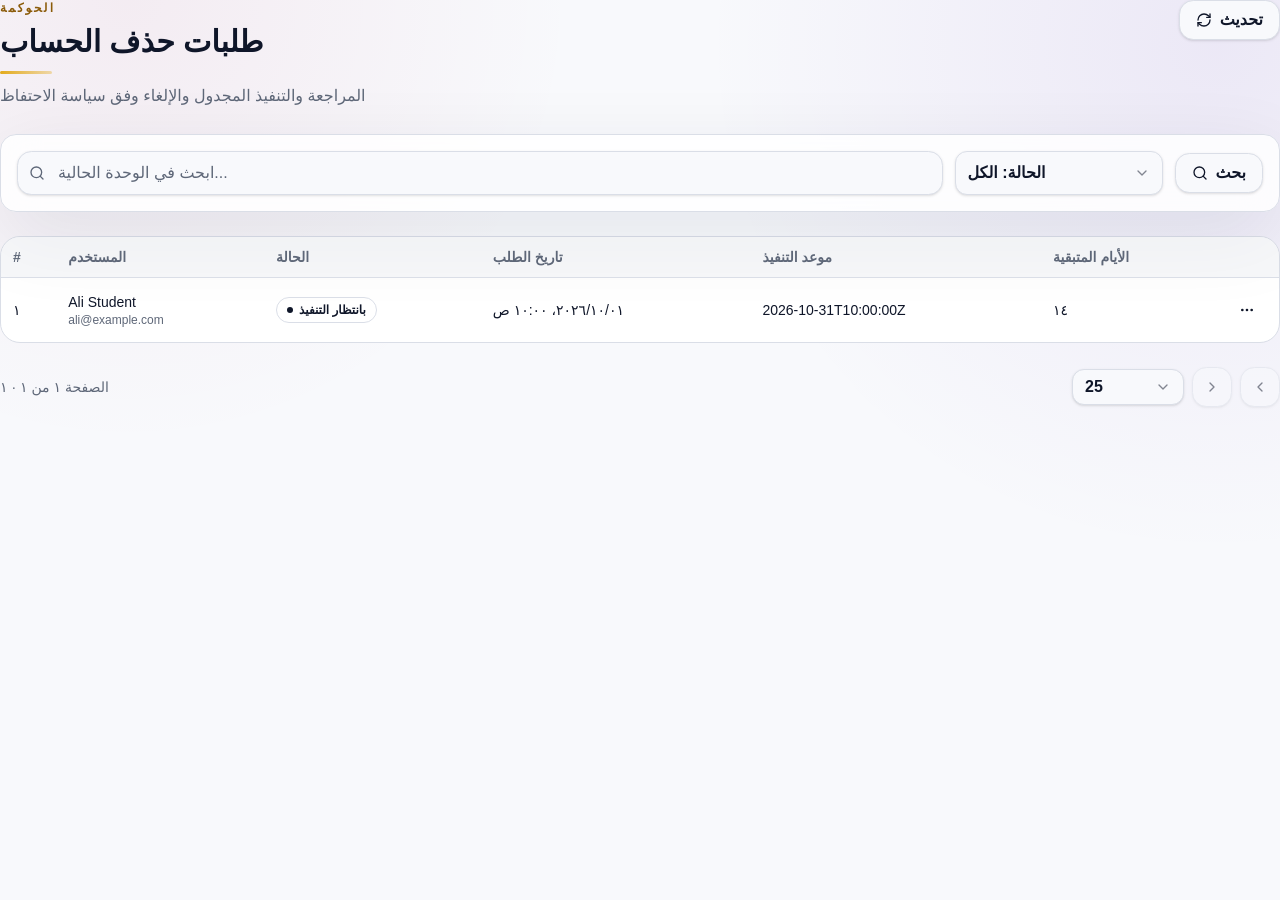
Test: account deletions page › opens the detail drawer with the timeline
This screenshot has width=1280, height=900.
Click the button named "الإجراءات" at point(1247, 310), box 1227,290 -> 1267,330
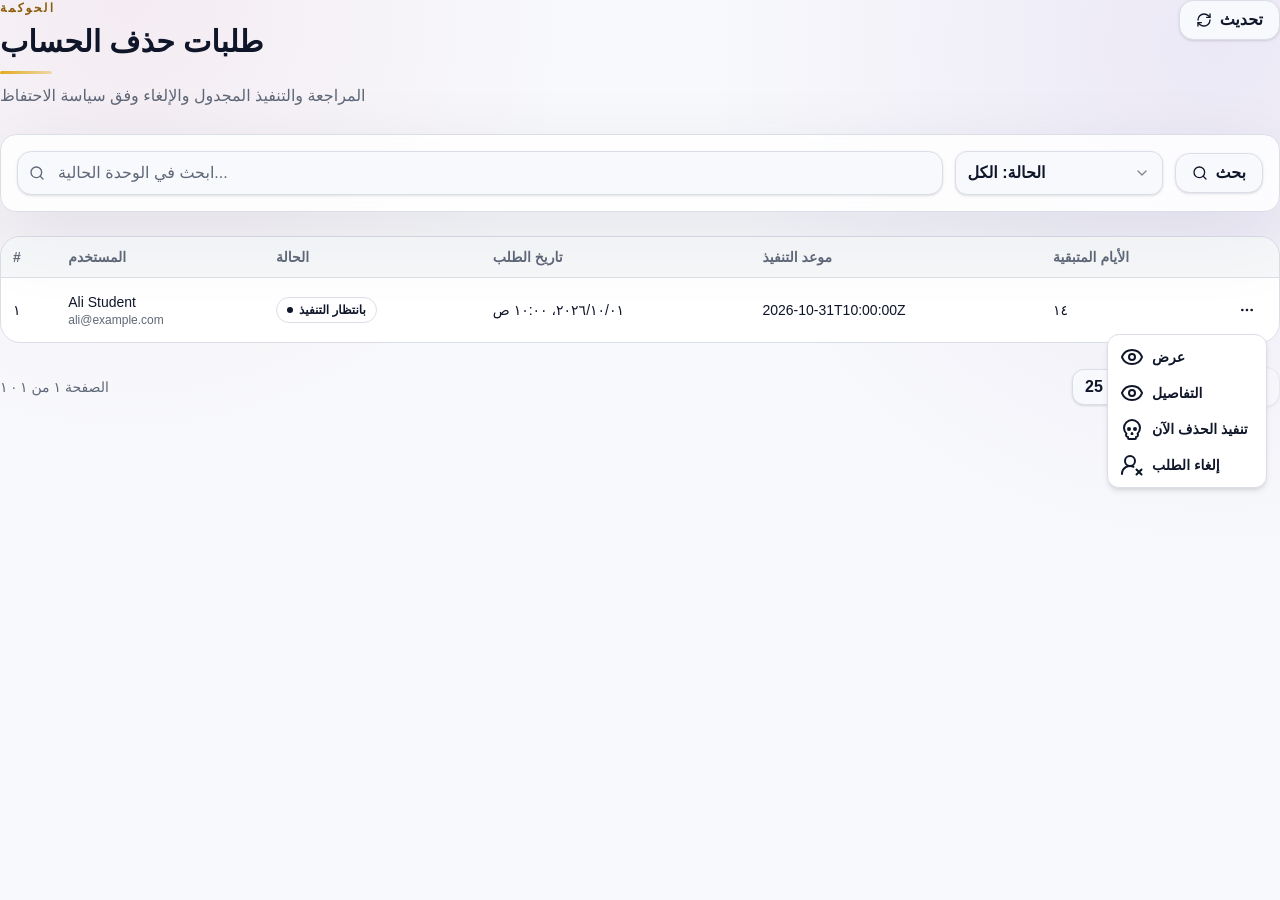
Click the menu item "التفاصيل" at point(1161, 393), box 1120,381 -> 1202,405
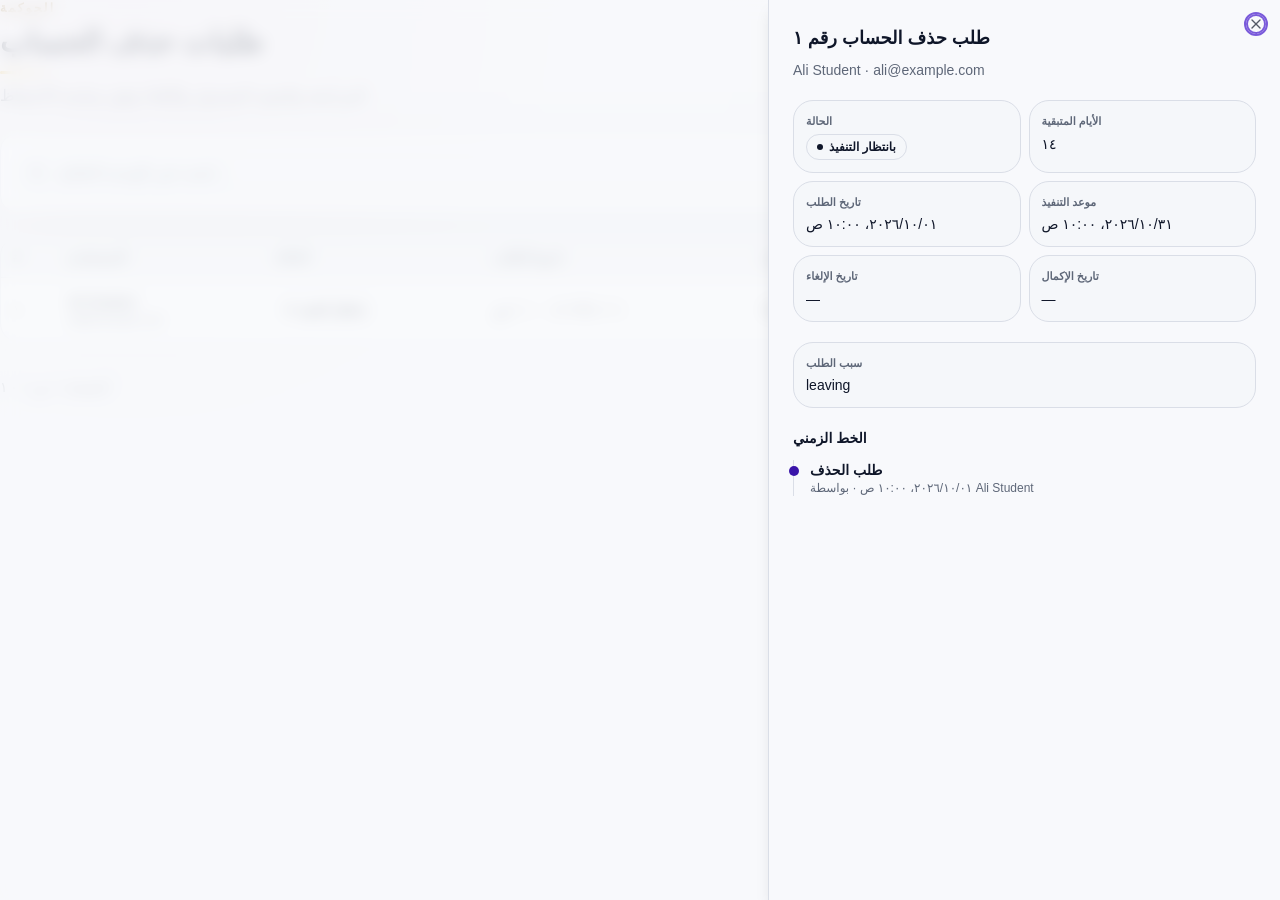
expect the text "طلب الحذف" is shown: met, box 810,462 -> 882,478
expect the heading "الخط الزمني" is shown: met, box 793,430 -> 867,446
